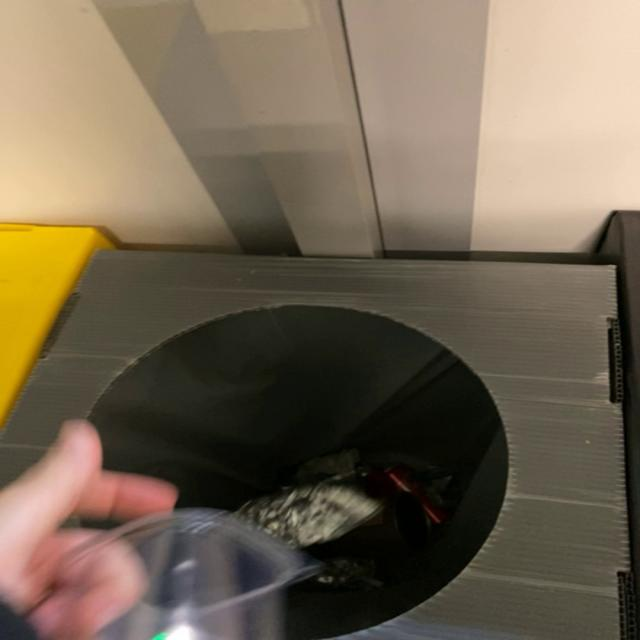bin: (1, 251, 629, 640)
metal: (235, 482, 381, 548)
